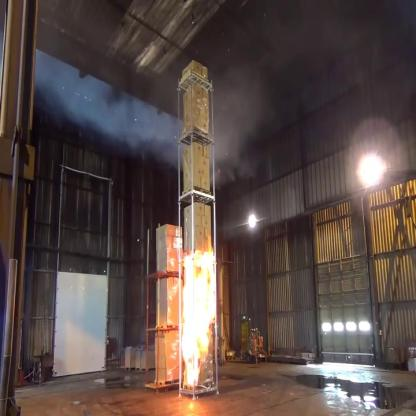fire: (181, 250, 217, 387)
